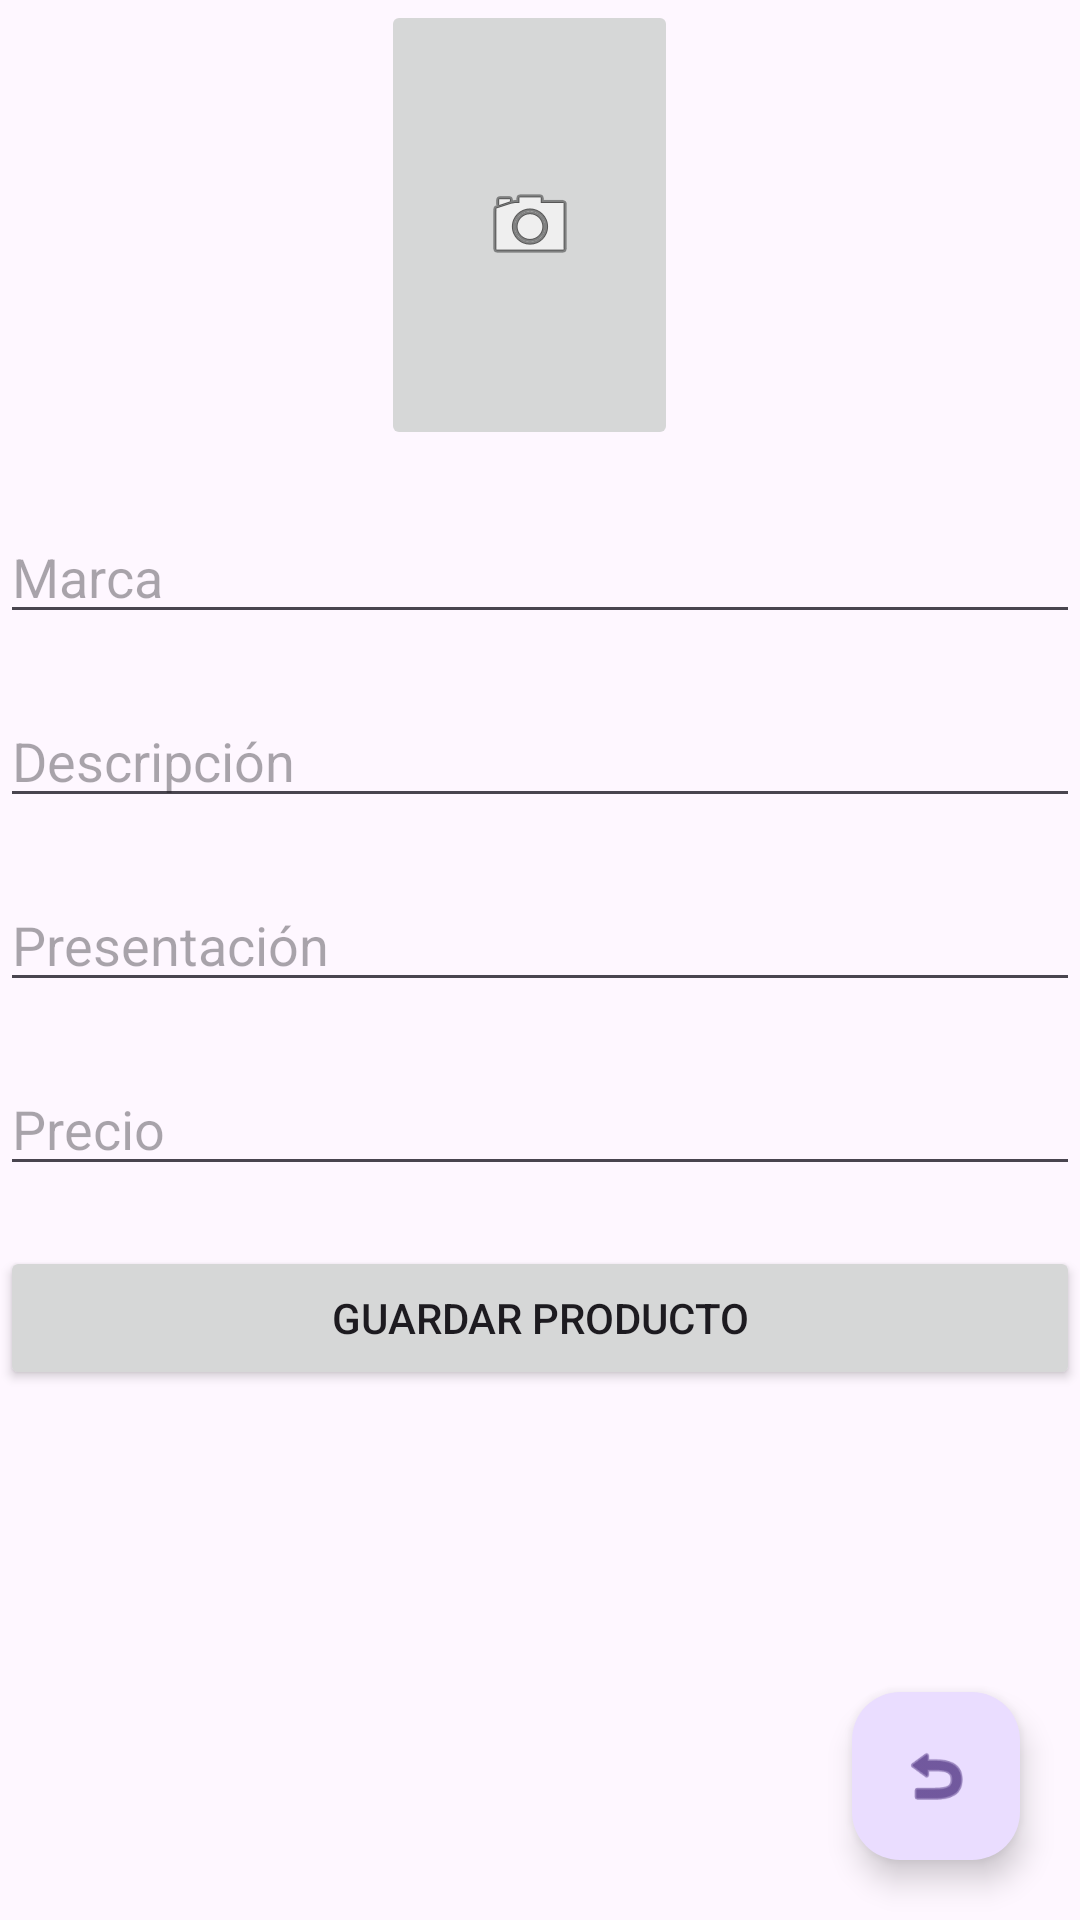

Named icons in this screenshot (1080x1920) and their centers, (x,y):
revert: (936,1776)
